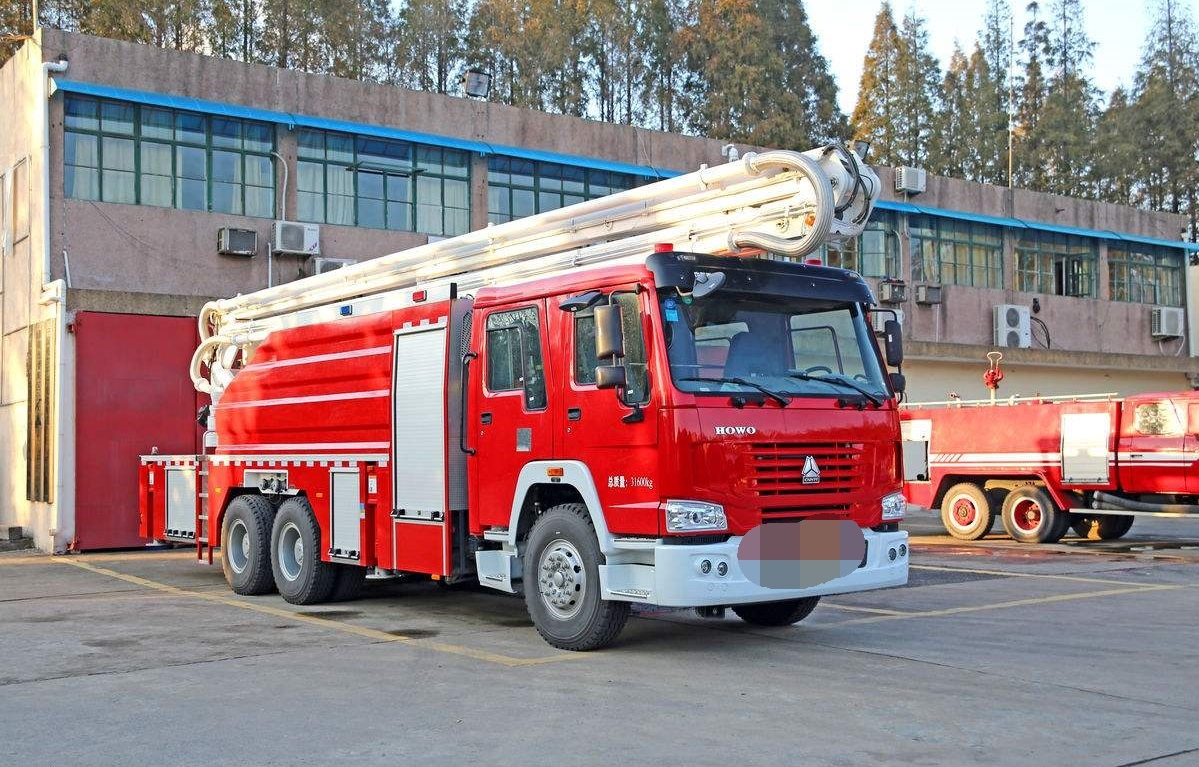fire engine: (193, 149, 911, 651)
